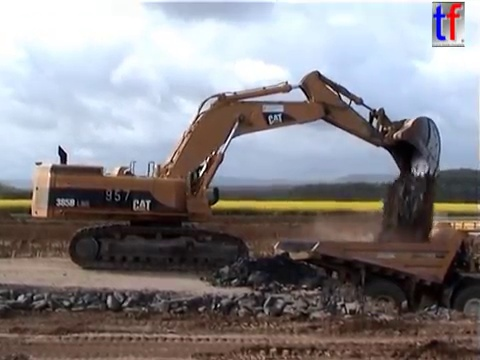excavator: (28, 68, 444, 274)
truck: (271, 219, 480, 333)
